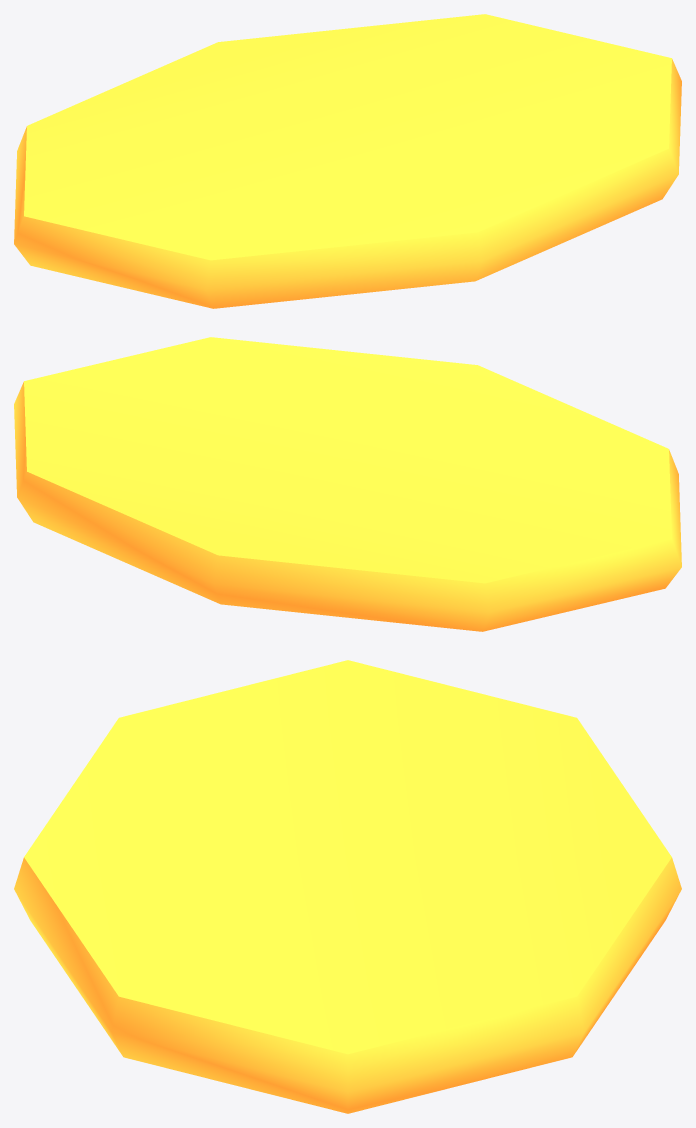
Rendered from gold_and_steel_guard_037.glb.
3 views of the same model, one above another, from view 1: azimuth 30°, elevation 25°; view 2: azimuth 150°, elevation 25°; view 3: azimuth 270°, elevation 25° (orthographic). The views are drawn at different scales.
Parts seen in each view (by area): view 1: gold_and_steel_guard_037; view 2: gold_and_steel_guard_037; view 3: gold_and_steel_guard_037.
Part boxes in pixels (box(x1,y1,x2,y2)): gold_and_steel_guard_037: box(14, 14, 681, 308); gold_and_steel_guard_037: box(14, 337, 681, 631); gold_and_steel_guard_037: box(14, 660, 681, 1113).
Size of the model in its own units: 5.51 by 0.4014 by 3.83.
Materials: 1 (1 with a texture image).
